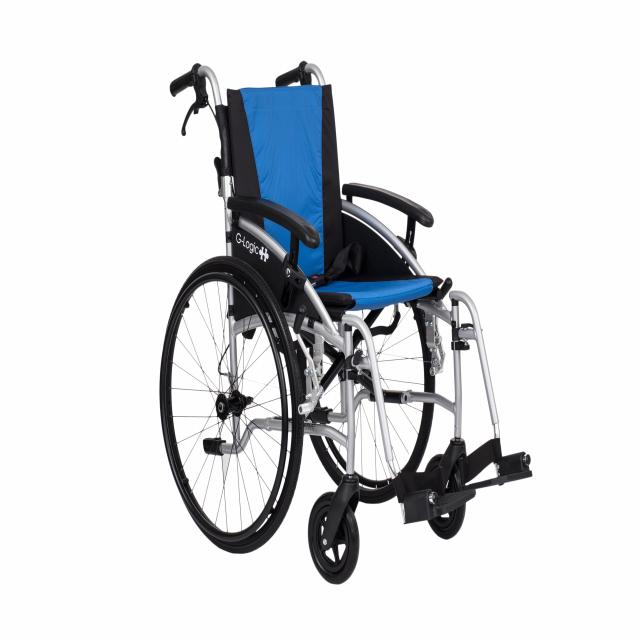wheelchair: (152, 45, 542, 589)
